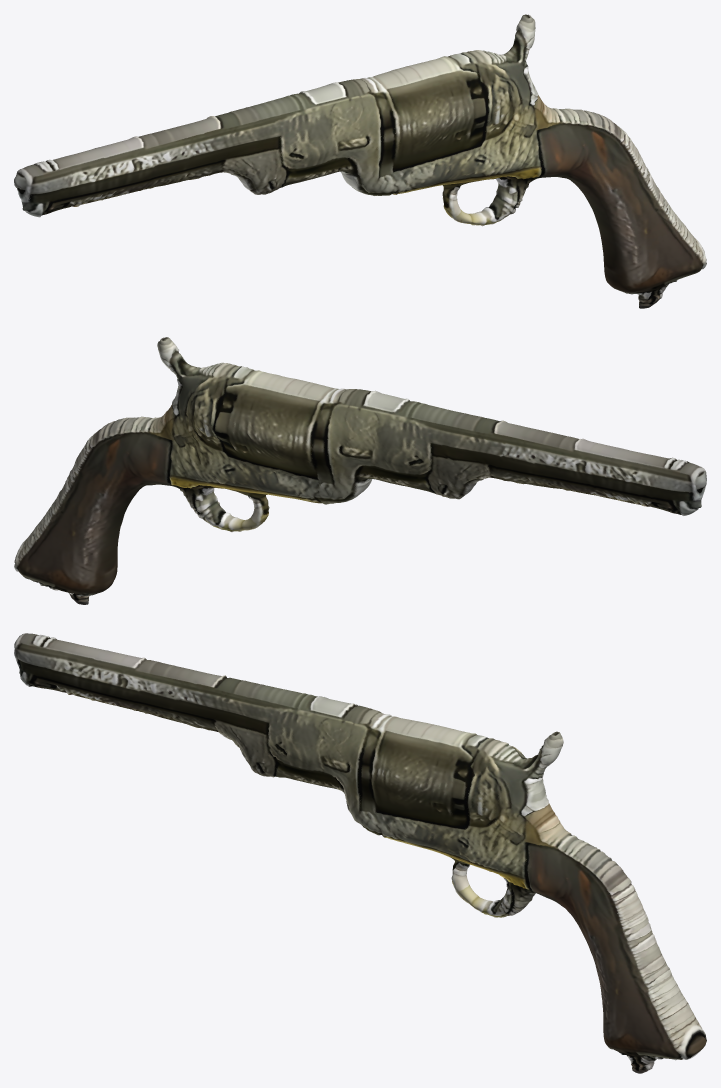
File: kfl-2173.glb
3 views of the same model, one above another, from view 1: azimuth 30°, elevation 25°; view 2: azimuth 150°, elevation 25°; view 3: azimuth 330°, elevation 25° (orthographic).
Visible parts, largest first — view 1: kfl-2173; view 2: kfl-2173; view 3: kfl-2173.
Boxes of the visible parts, x1=… form: kfl-2173: x1=14, y1=14, x2=706, y2=308; kfl-2173: x1=14, y1=337, x2=706, y2=604; kfl-2173: x1=14, y1=633, x2=706, y2=1073.
Bounding box in the file's own units: 0.9896 × 0.4184 × 0.1204.
Materials: 1 (1 with a texture image).
